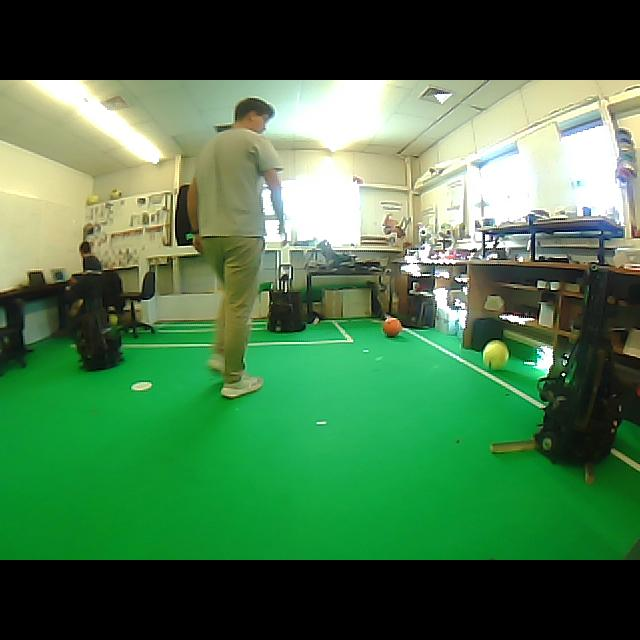ball: (483, 339, 508, 369), (383, 316, 401, 337), (86, 194, 100, 205), (110, 189, 121, 199), (109, 314, 118, 326)
robot: (535, 266, 620, 463), (78, 296, 124, 369), (268, 265, 305, 332)
